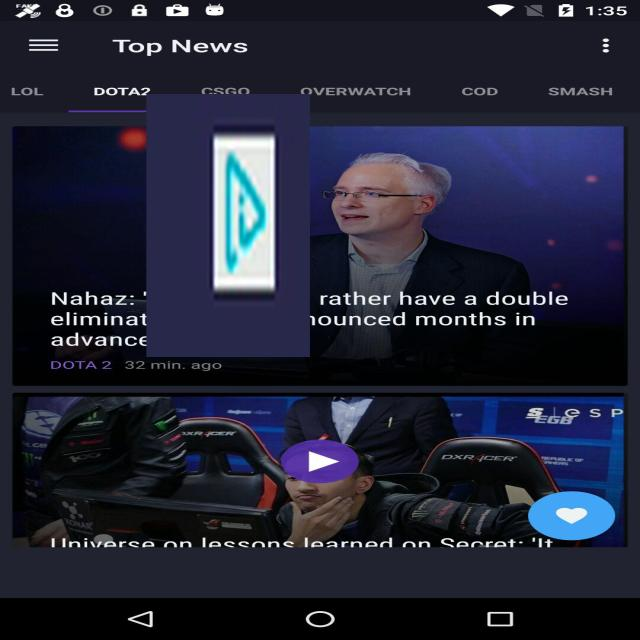sneaking: (146, 94, 310, 357)
